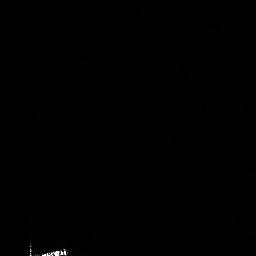ship: (25, 237, 73, 256)
